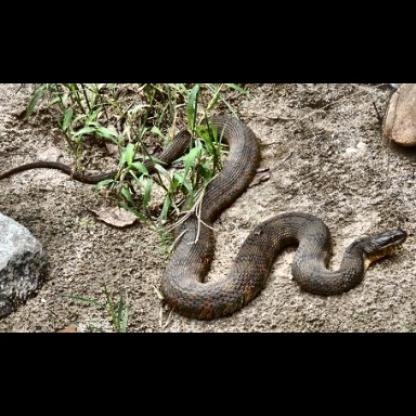Snake: (154, 113, 410, 322), (5, 149, 153, 190)
